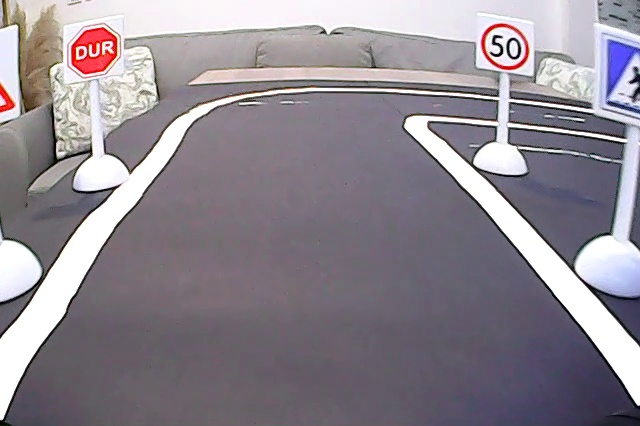pedestrian crossing: (596, 30, 640, 115)
speed limit 50: (480, 17, 531, 74)
stop sign: (67, 24, 124, 80)
